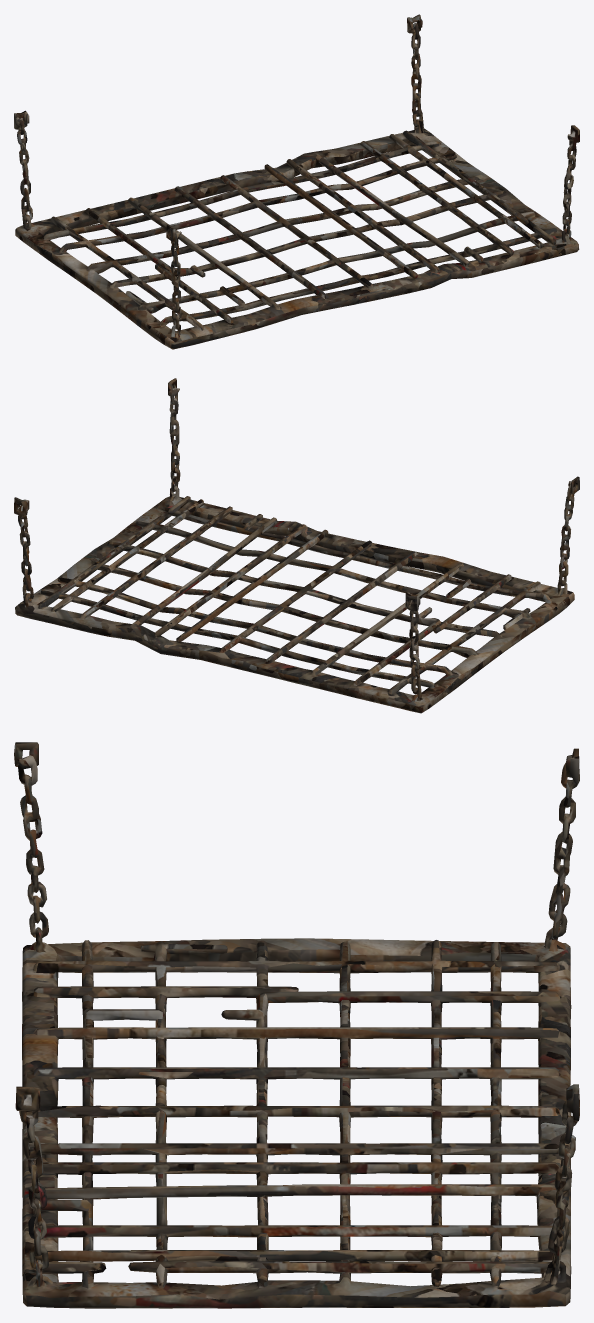
The model's file is GeneratedMesh.fbx.
The picture shows the model from 3 angles, top to bottom: view 1: azimuth 30°, elevation 25°; view 2: azimuth 150°, elevation 25°; view 3: azimuth 270°, elevation 25°; orthographic projection. The views are drawn at different scales.
Visible parts, largest first — view 1: mesh_node; view 2: mesh_node; view 3: mesh_node.
Boxes of the visible parts, x1,y1,x2,y2 form: mesh_node: (14,14,579,349); mesh_node: (14,378,579,713); mesh_node: (14,742,579,1308).
Size of the model in its own units: 1.98 by 0.5867 by 1.35.
